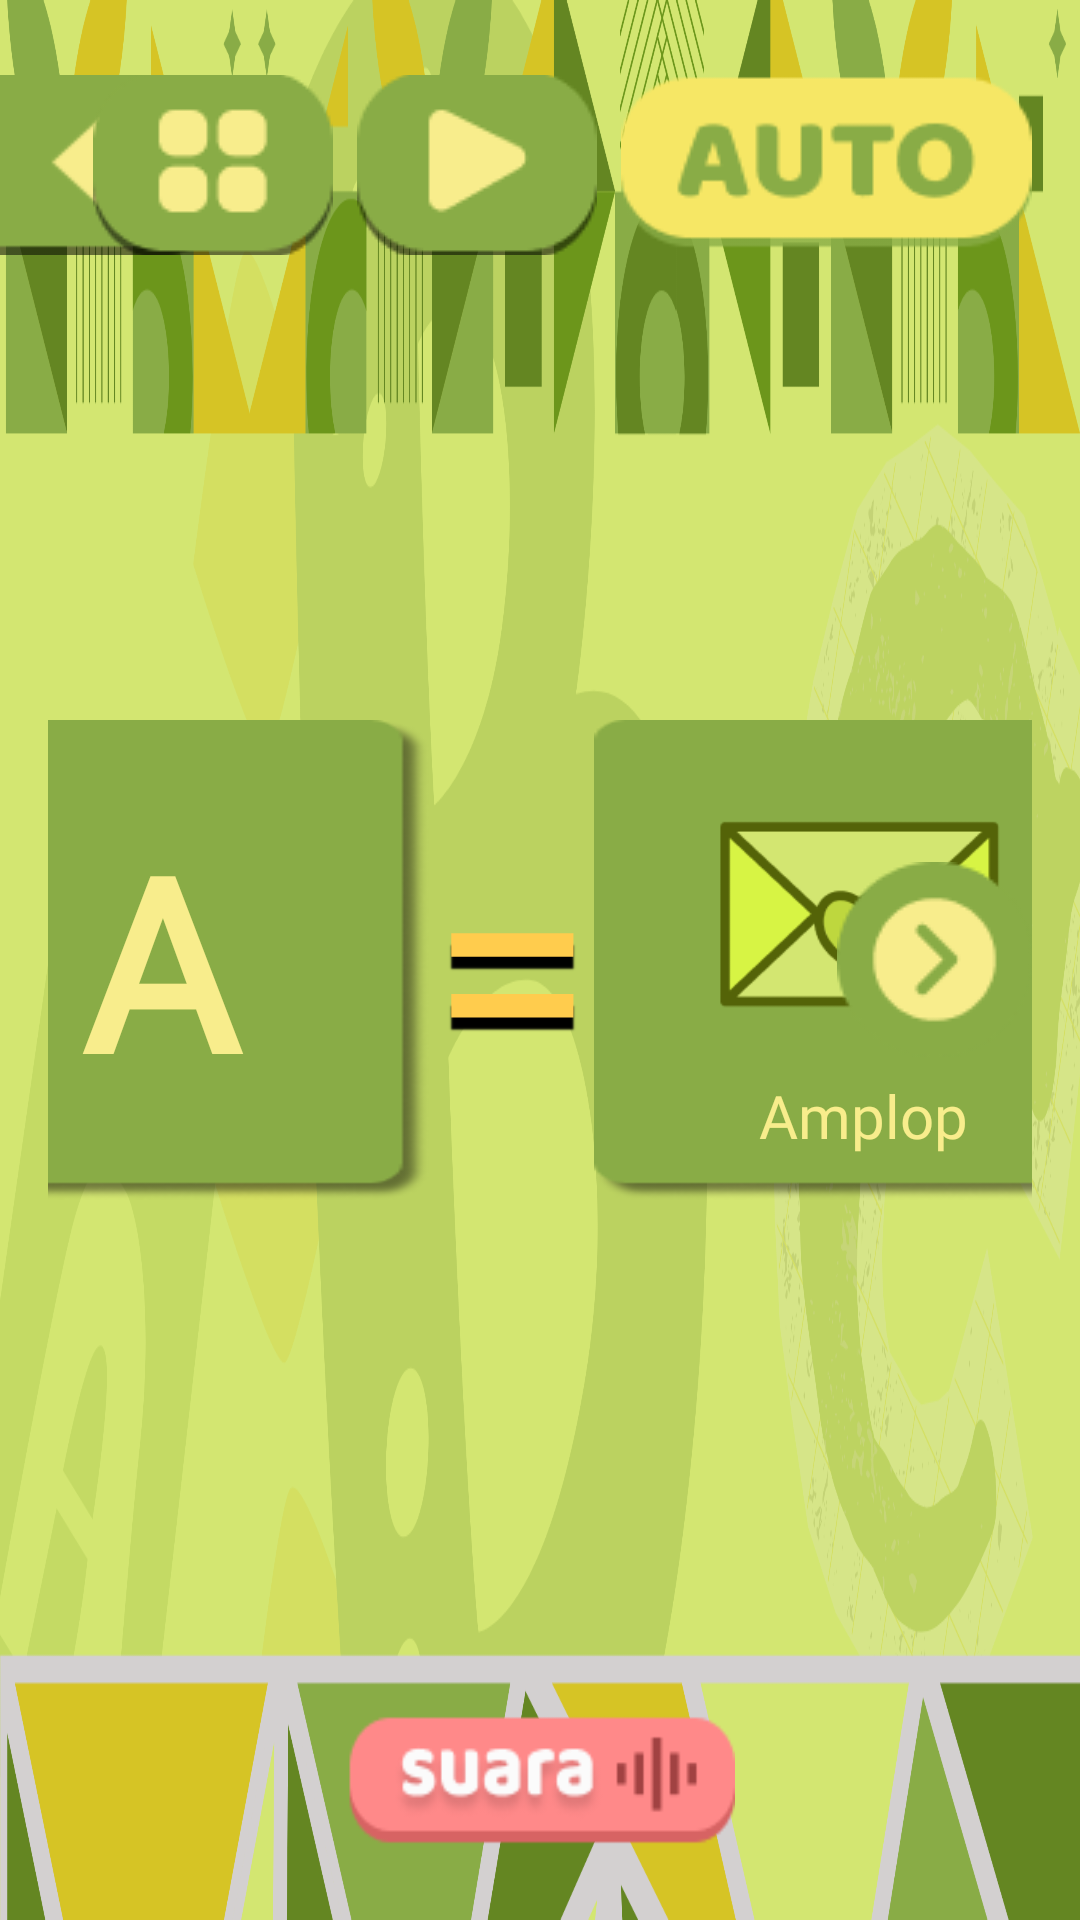

Where to tap for icons on this 1080w x 1920h app screen, as (x=x, y=y):
Kembali ke pilihan huruf: (x=213, y=165)
